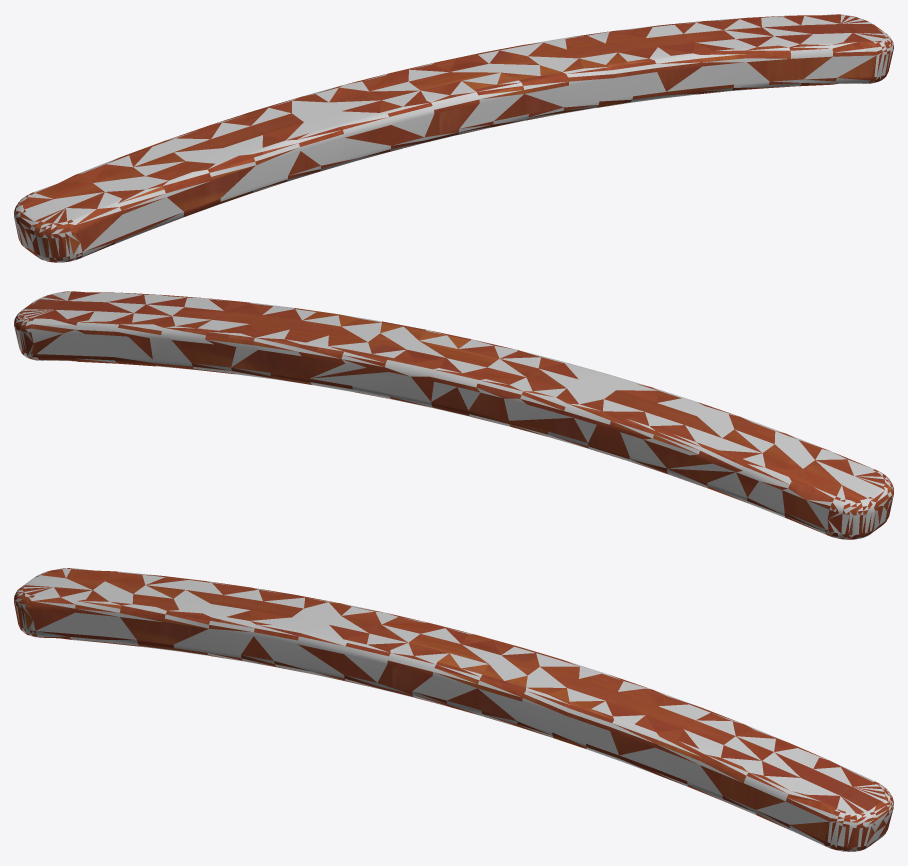
The model's file is left_armrest.obj.
3 views of the same model, one above another, from view 1: azimuth 30°, elevation 25°; view 2: azimuth 150°, elevation 25°; view 3: azimuth 330°, elevation 25° (orthographic).
Visible parts, largest first — view 1: left_armrest_mesh11.003_mesh11-geometry; view 2: left_armrest_mesh11.003_mesh11-geometry; view 3: left_armrest_mesh11.003_mesh11-geometry.
Part boxes in pixels (<box>): left_armrest_mesh11.003_mesh11-geometry: <box>14,14,893,262</box>; left_armrest_mesh11.003_mesh11-geometry: <box>14,291,893,539</box>; left_armrest_mesh11.003_mesh11-geometry: <box>14,568,893,851</box>.
Size of the model in its own units: 0.5079 by 0.0531 by 0.0482.
